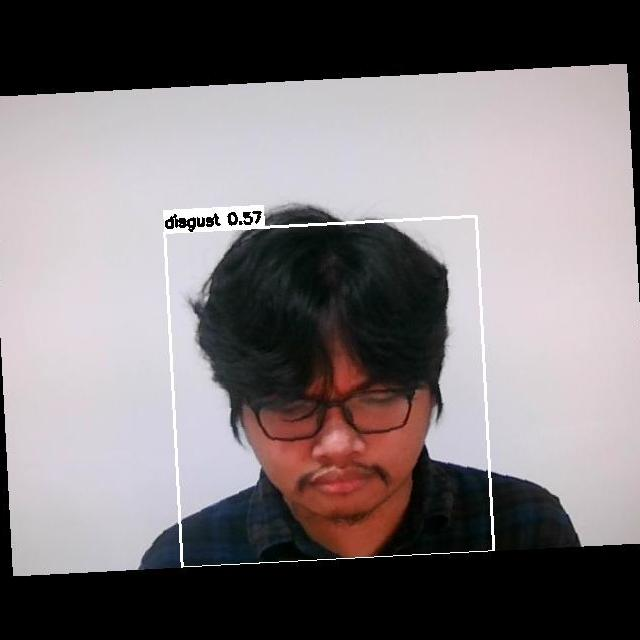Angry: (245, 354, 428, 511)
